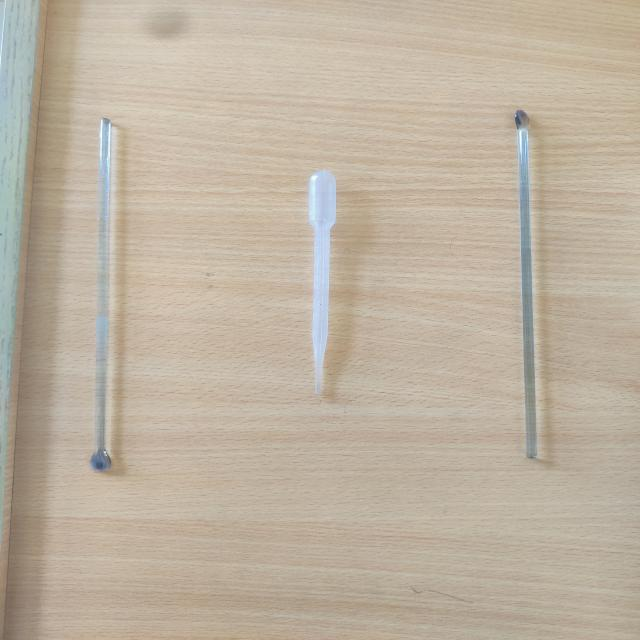Glass_Rod: (463, 77, 601, 494), (60, 89, 181, 498)
Pipette: (257, 140, 379, 418)
